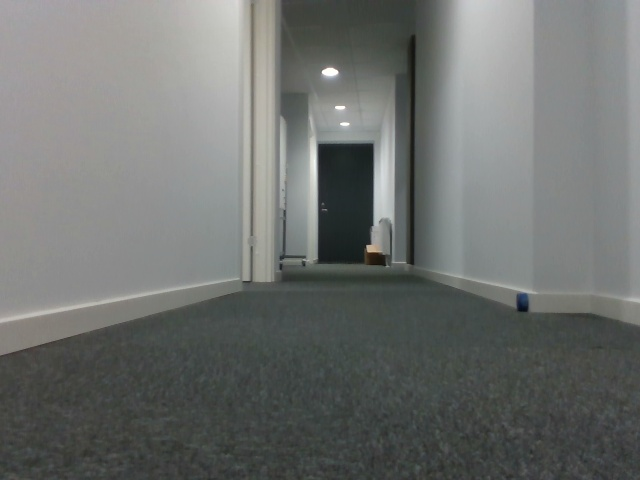alfa: (515, 292, 530, 314)
